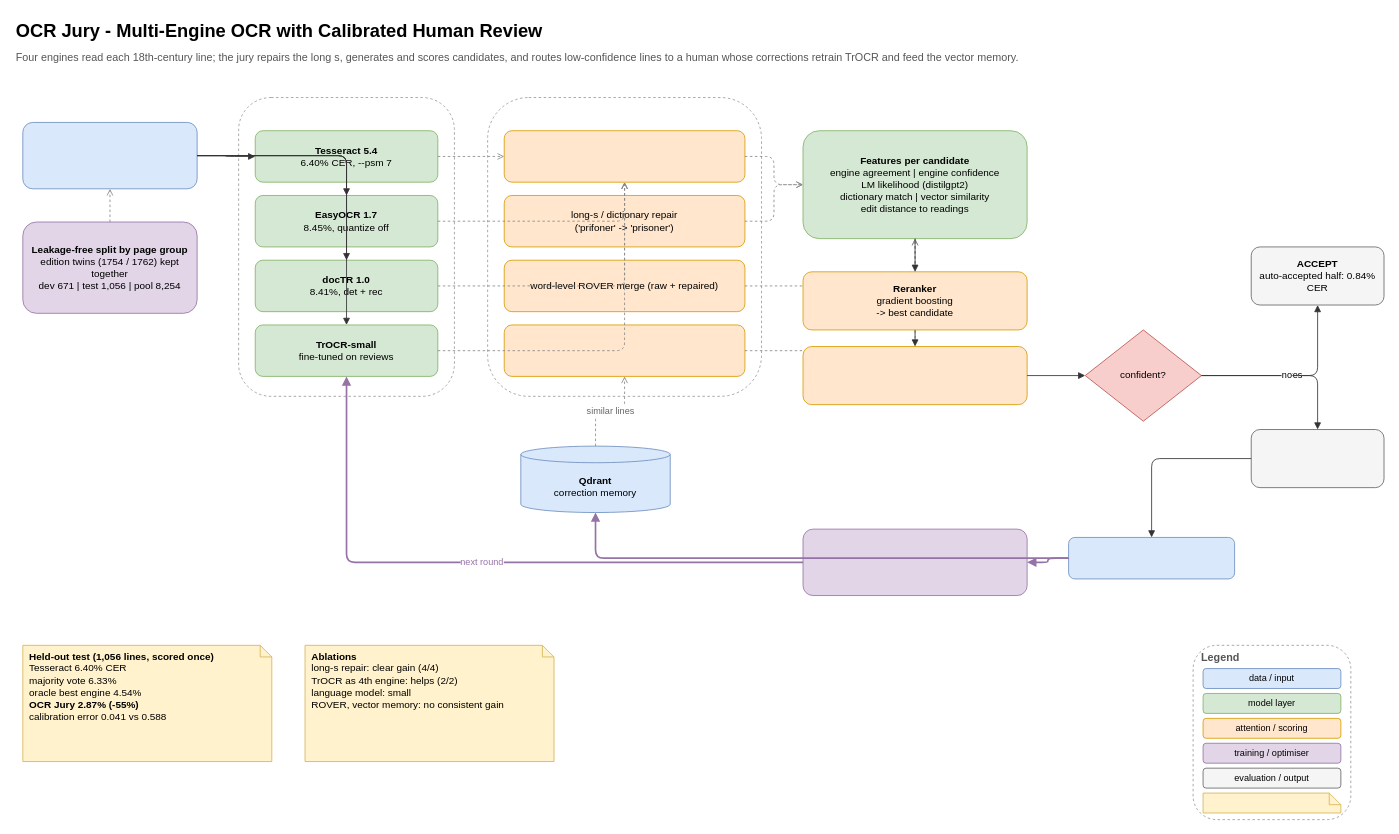
Some shapes in this 1399 by 834 pixel diagram are drawn without their labels. The shapes that lost their labels are listed below. From the top down, each one's box as (x1, y1, x2, y2) in pixels, then its label:
(22, 122, 197, 189): Line image OCR 18th Century dataset (Zenodo) 9,981 lines, mostly Hume
(503, 130, 745, 182): every raw reading
(238, 97, 454, 396): 4 OCR engines (cached per line)
(487, 97, 762, 396): Candidate generation
(503, 324, 745, 376): nearest past human corrections
(802, 346, 1027, 405): Confidence model logistic regression P(line acceptable)
(1250, 429, 1384, 488): HUMAN REVIEW least-confident lines
(802, 528, 1027, 596): TrOCR fine-tuning frozen encoder, decoder trained 78.1% -> 34.6% CER in 3 rounds
(1068, 537, 1235, 579): corrected ground truth
(1202, 792, 1341, 813): result / insight
